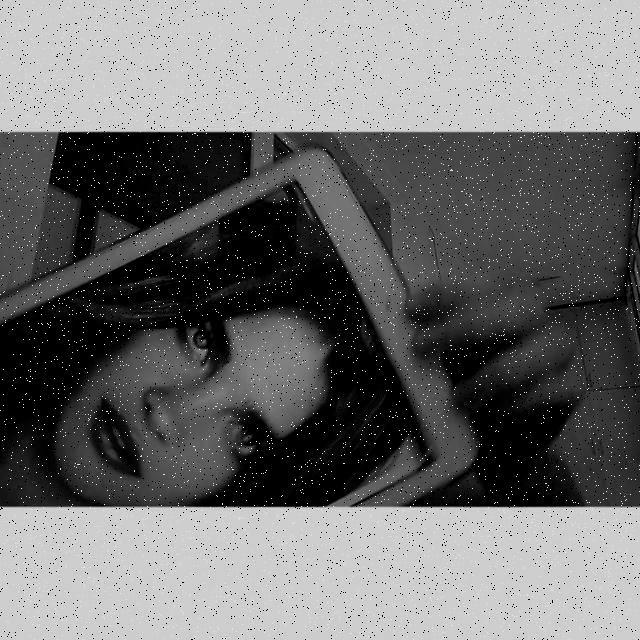fake: (0, 138, 495, 506)
